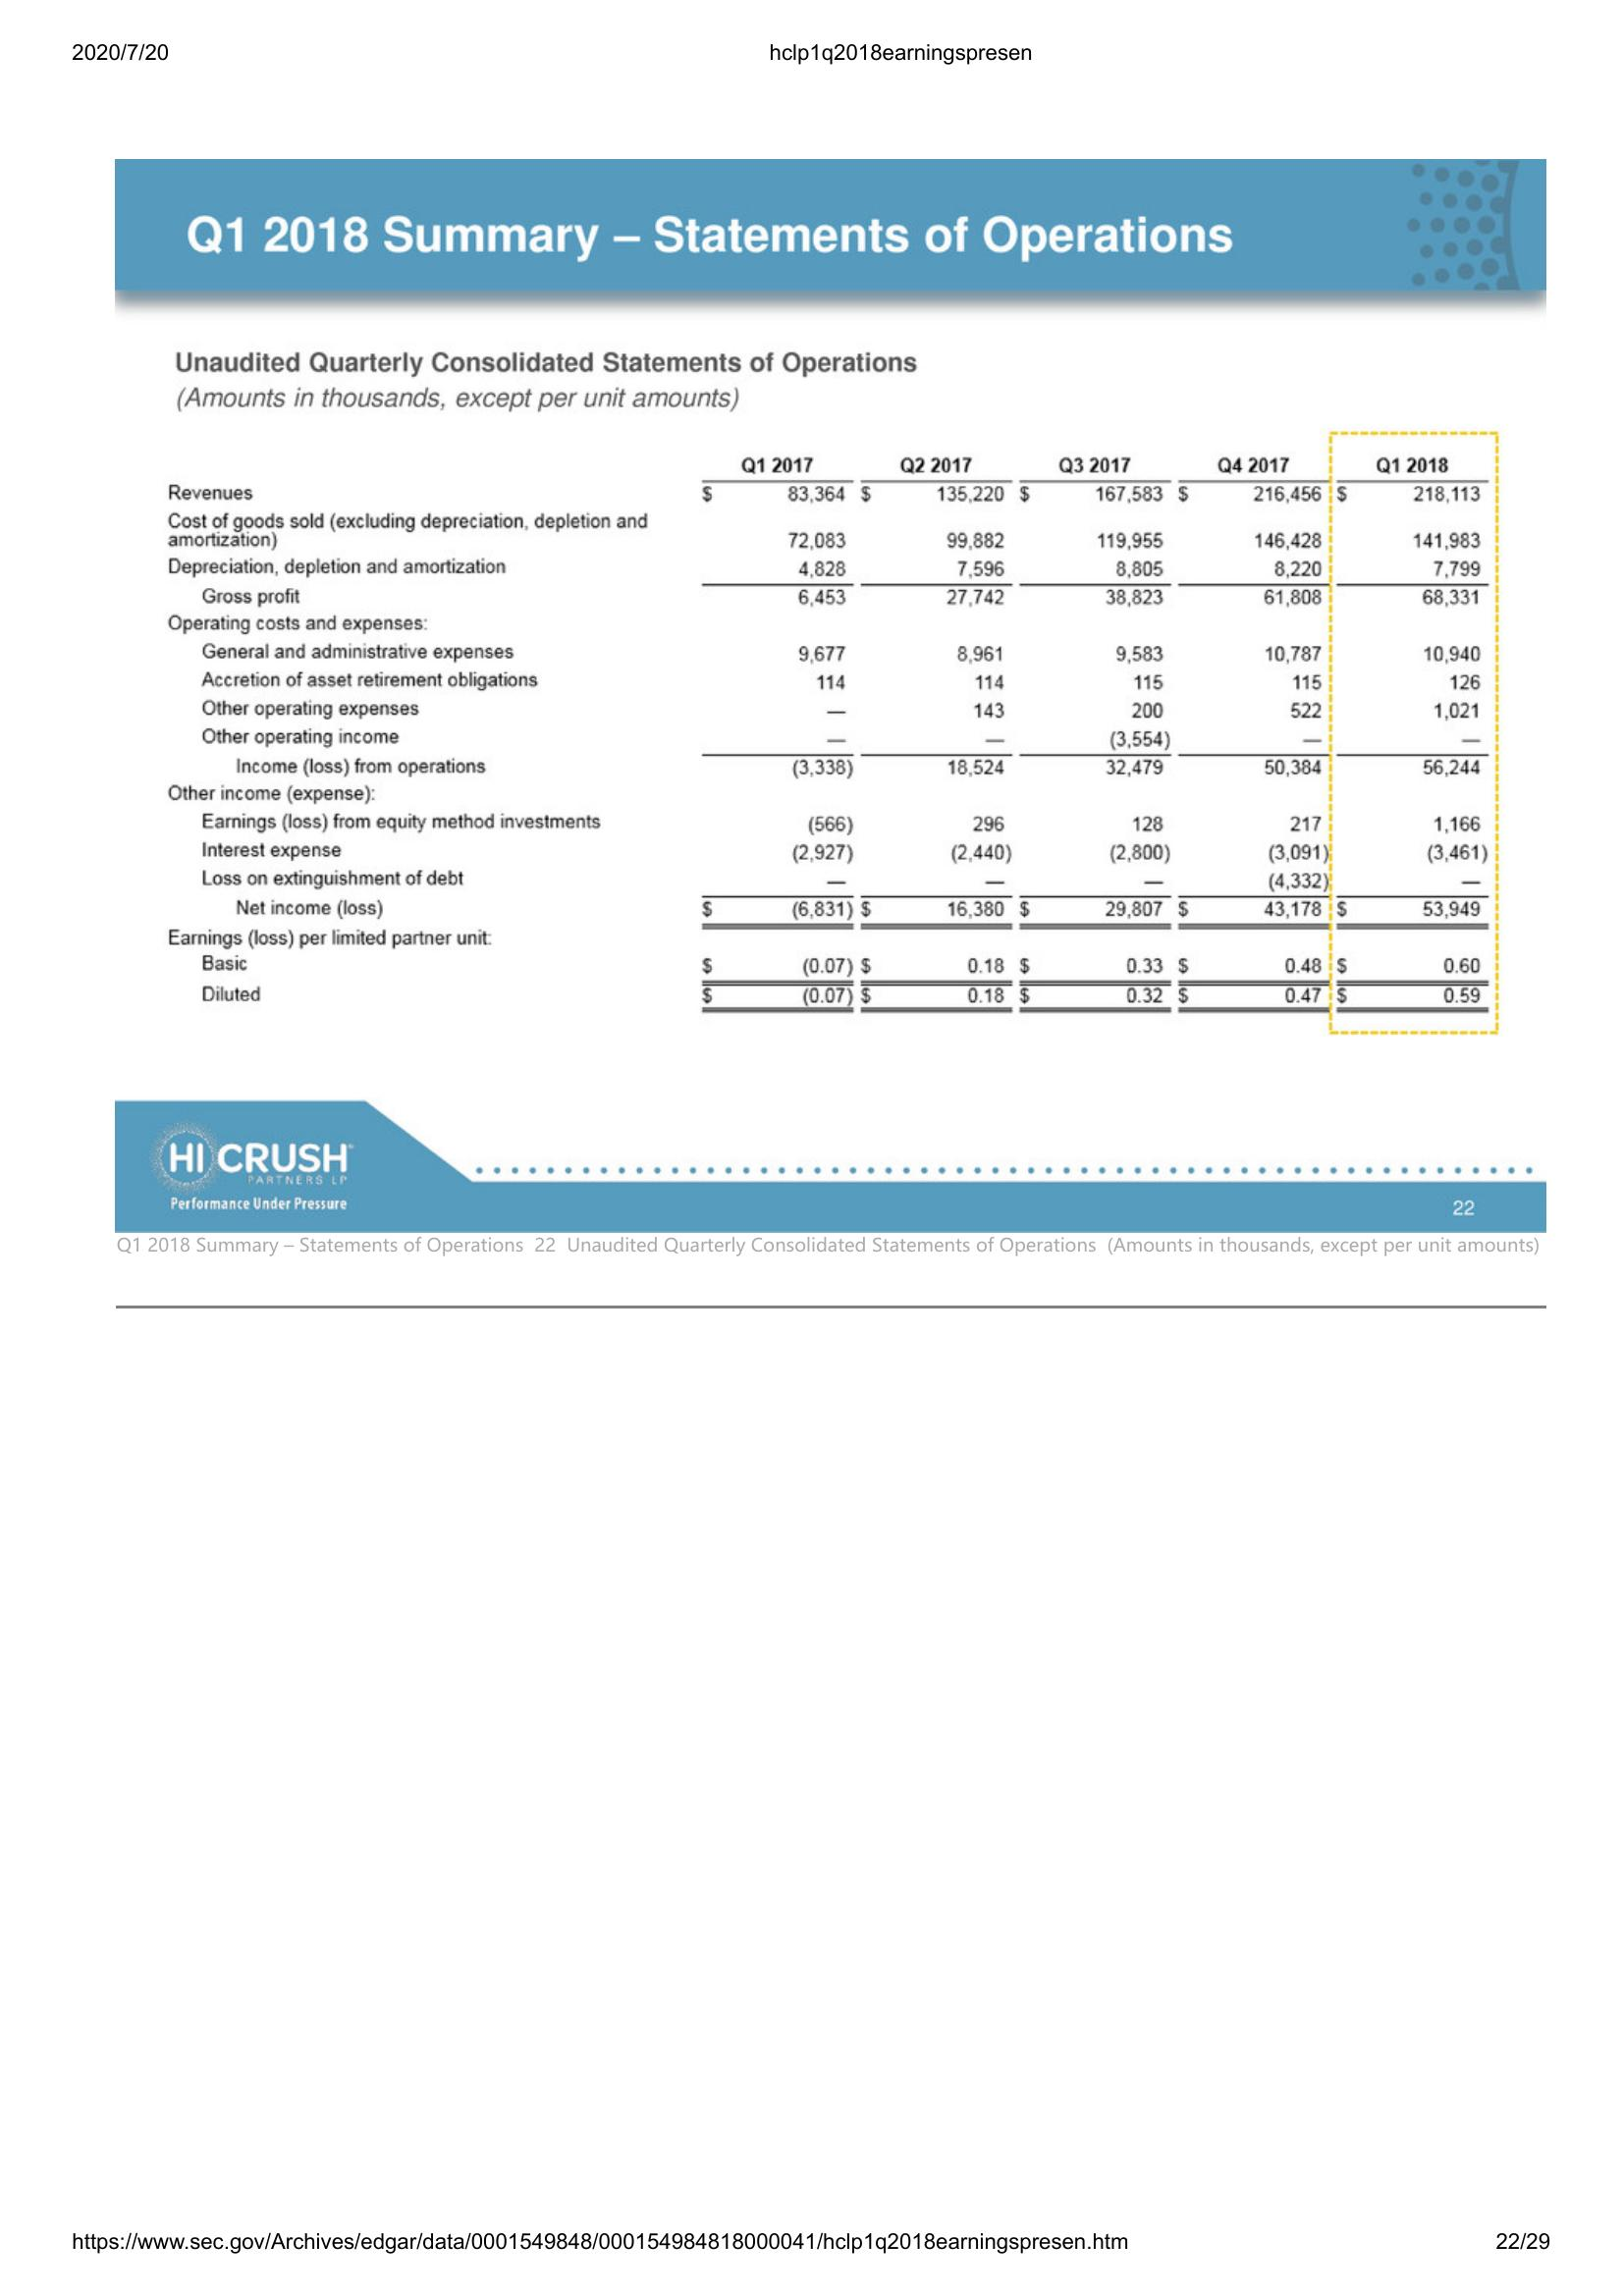table: (158, 453, 1505, 1022)
